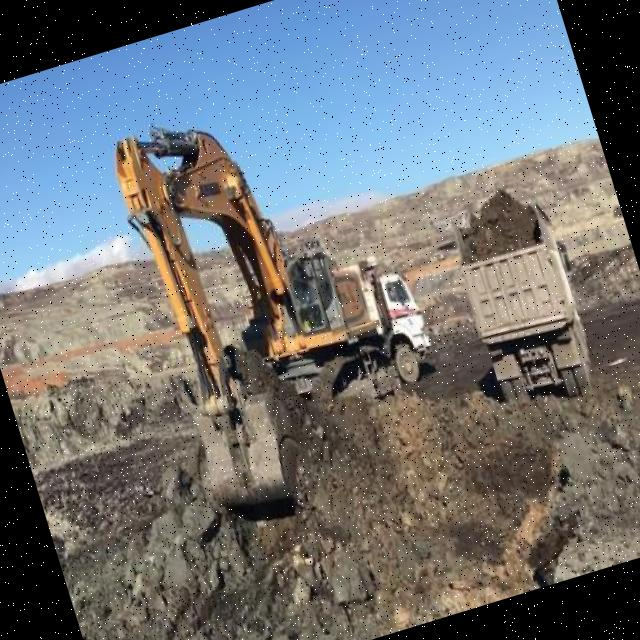Dump Truck: (438, 176, 601, 417), (337, 244, 440, 392)
Excavator: (80, 76, 423, 536)
